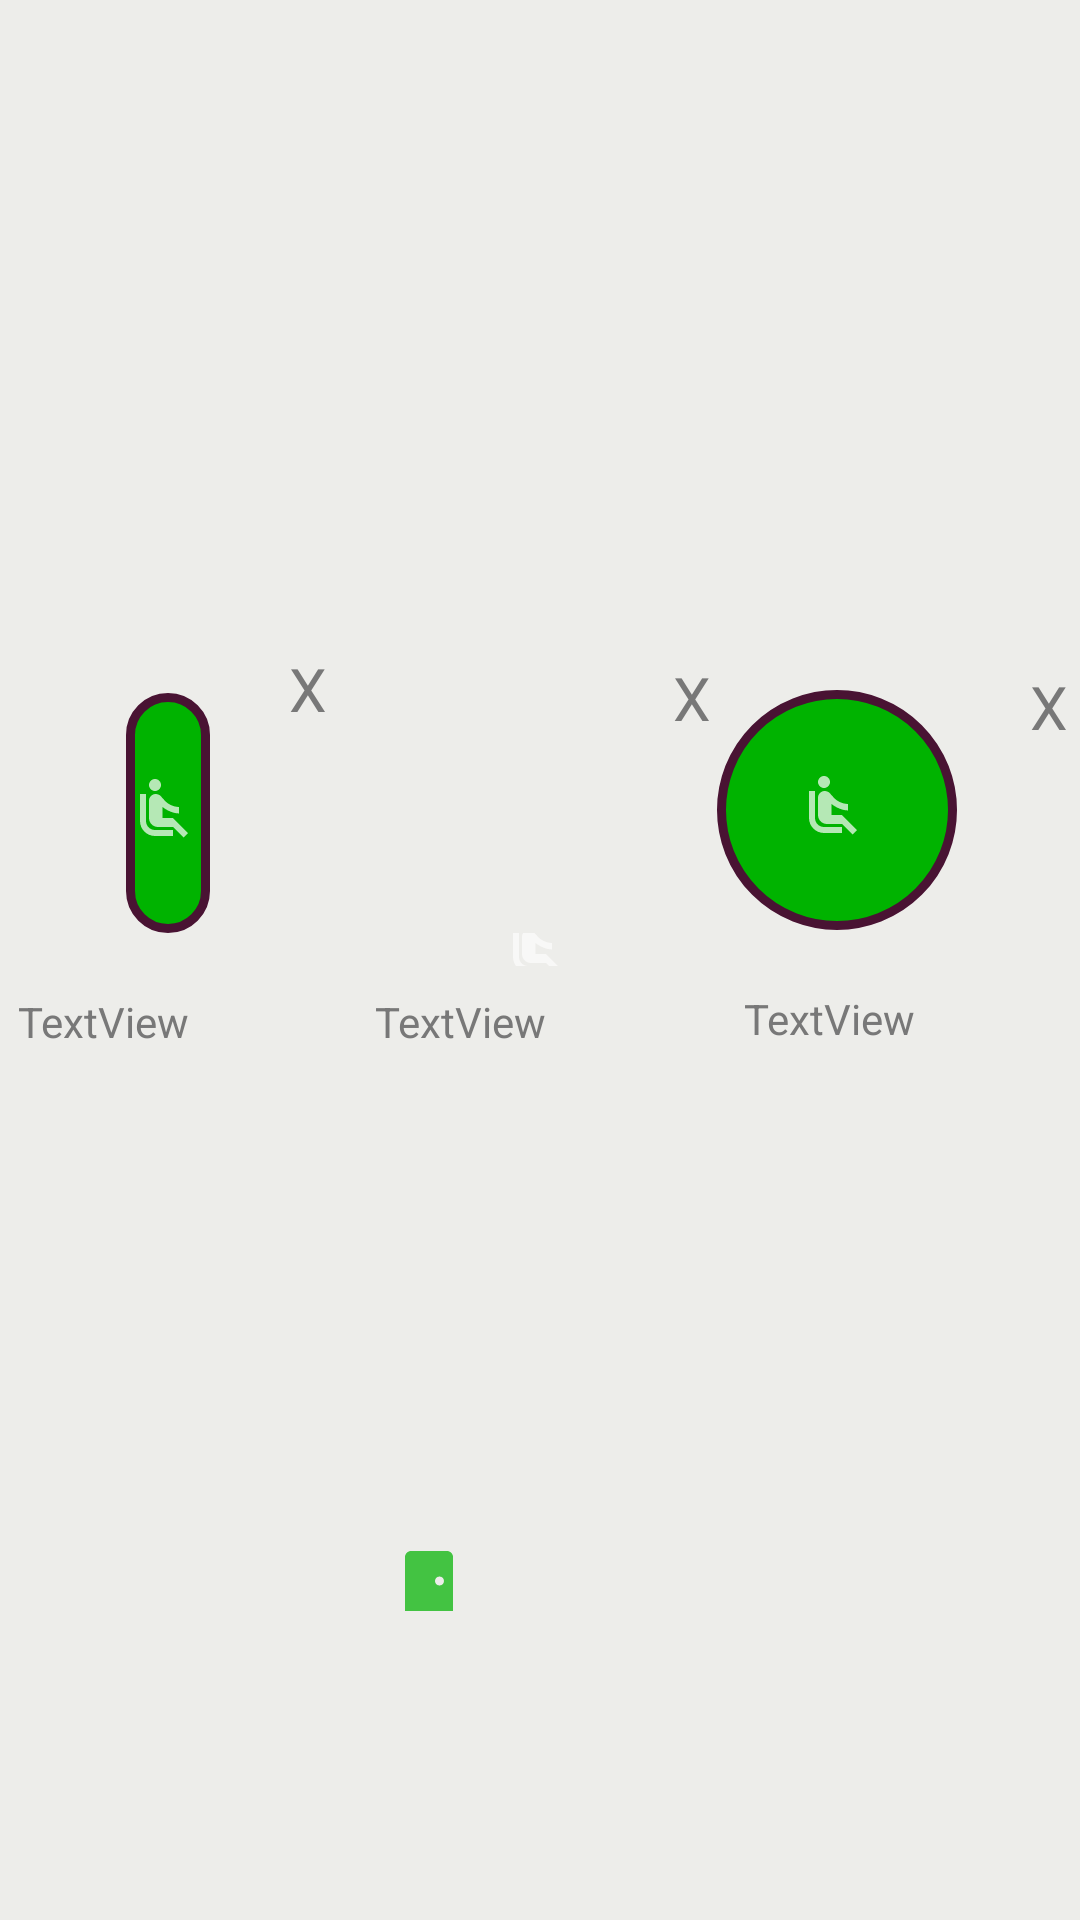

Named icons in this screenshot (1080×1920) and their centers, [x,y]:
chair1: [837,810], [168,813]
signout: [429,1581]
